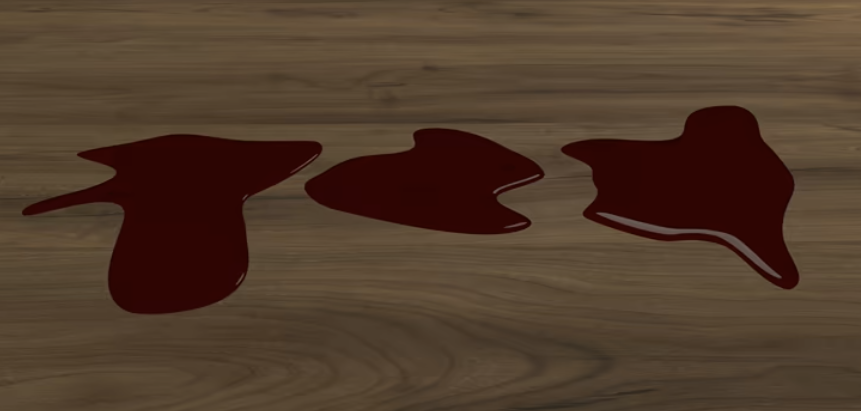blood_48.png: (11, 104, 819, 321)
